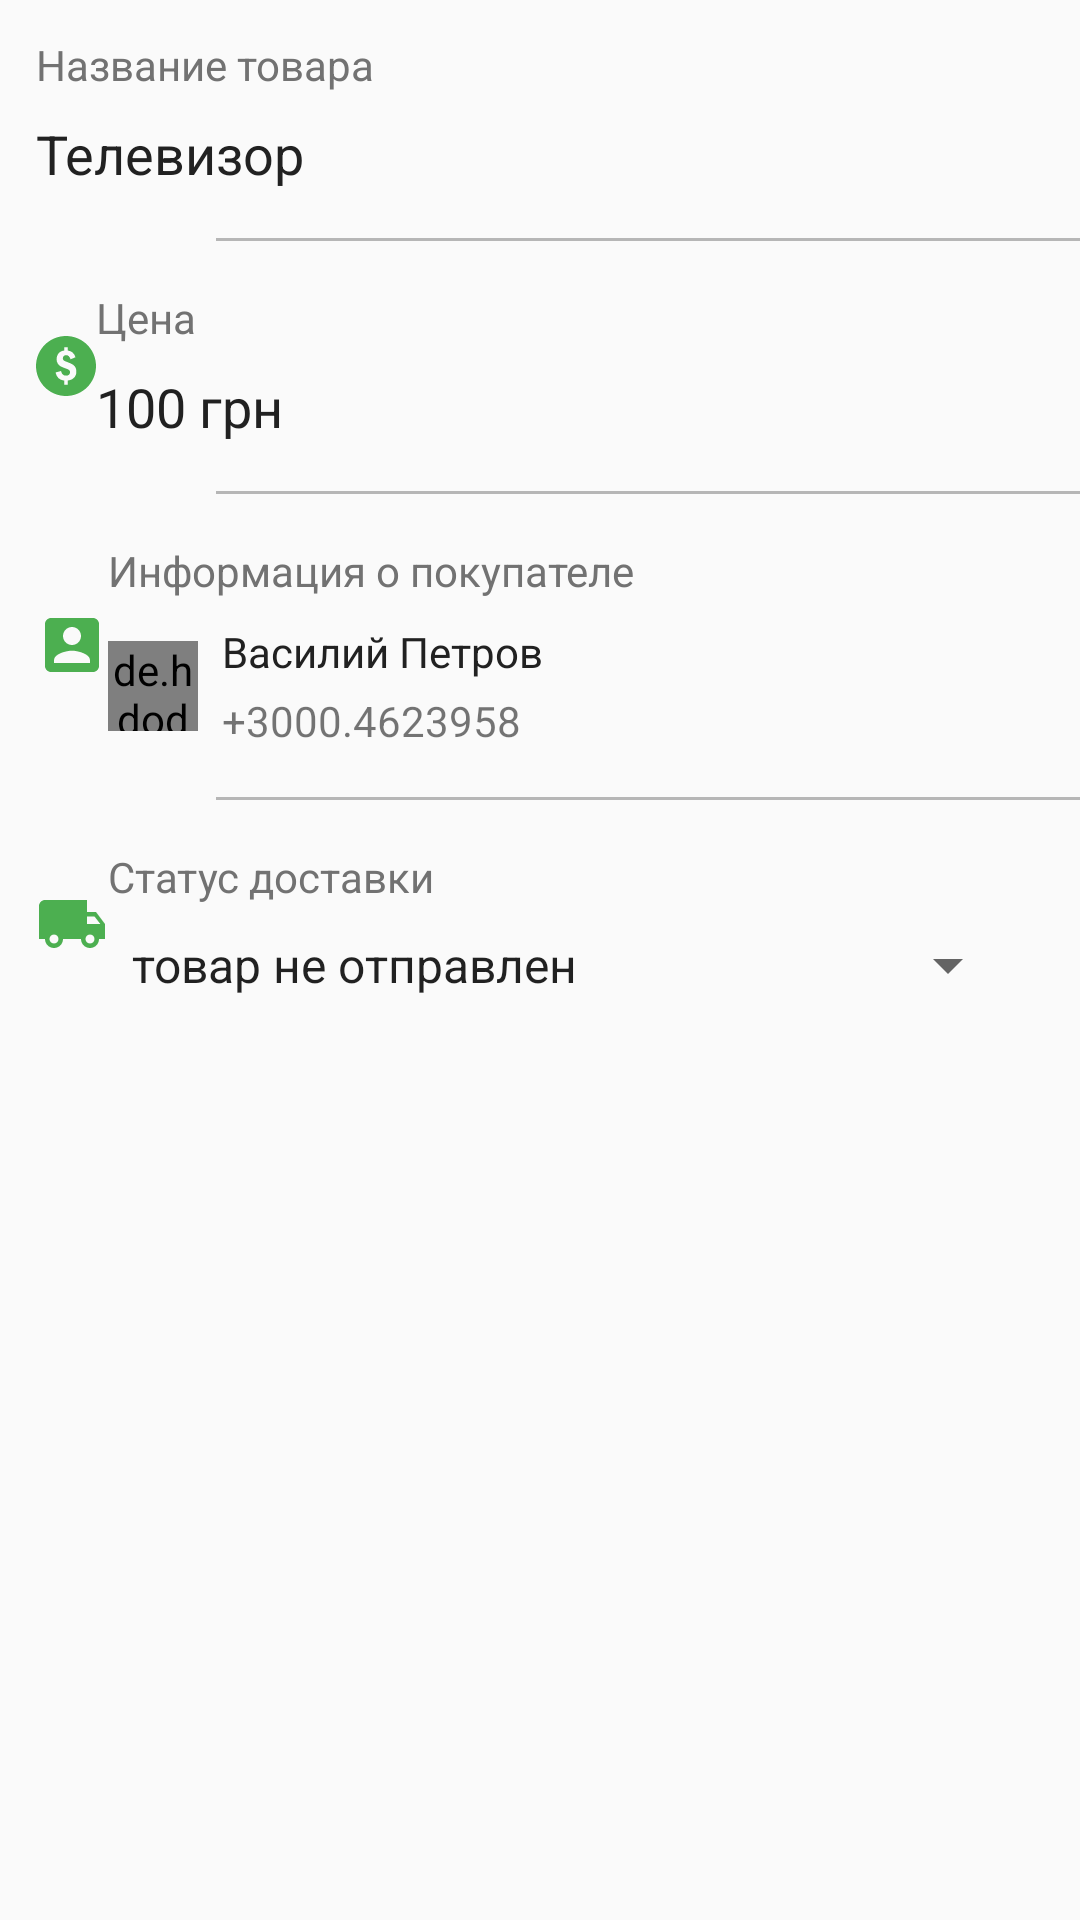

Screen size 1080px x 1920px. Icon name, then its box in pixels as (x1, y1, x2, y2):
delivery status: (39, 900, 105, 948)
dollar: (36, 336, 96, 396)
user info: (45, 618, 99, 672)
